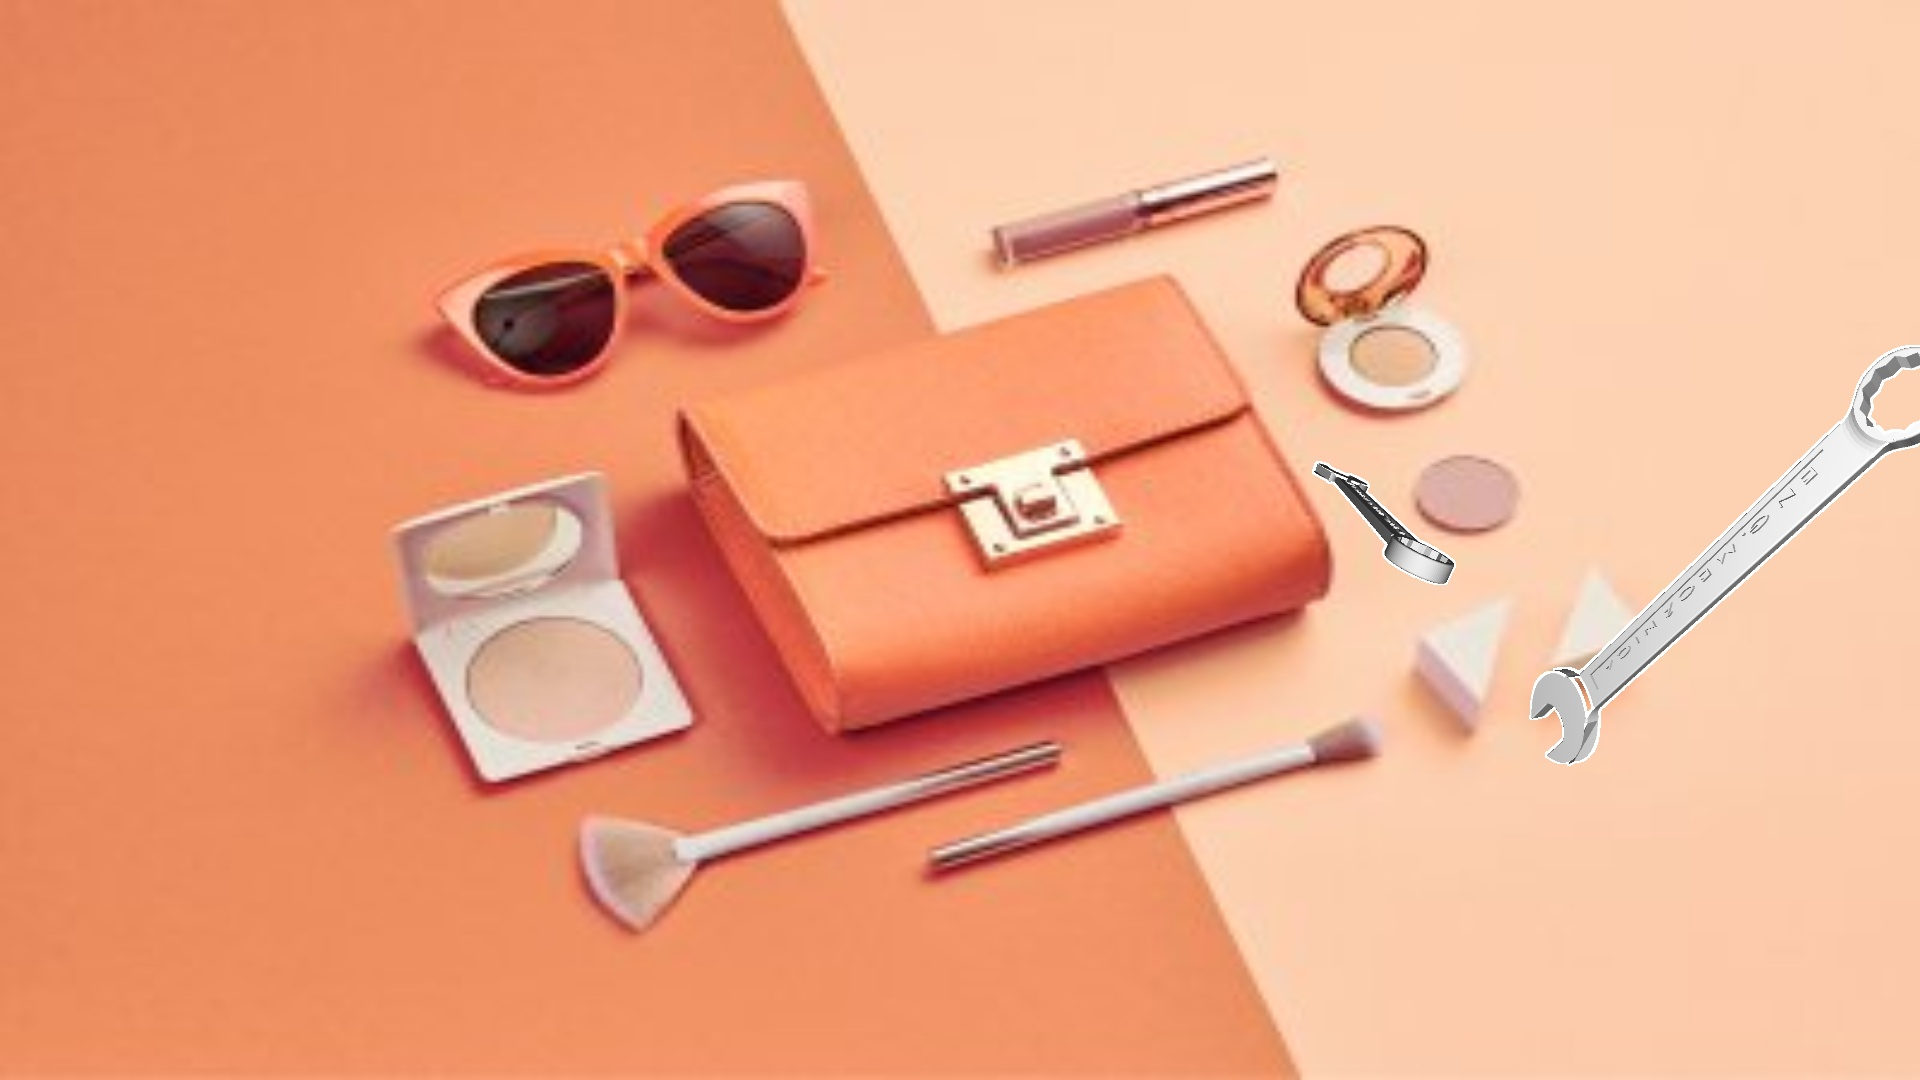Mixed Key: (1530, 345, 1919, 765), (1312, 462, 1455, 584)
